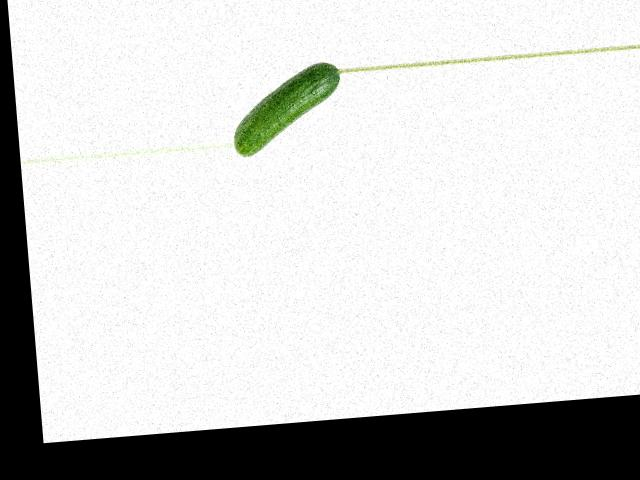cucumber: (227, 60, 346, 157)
